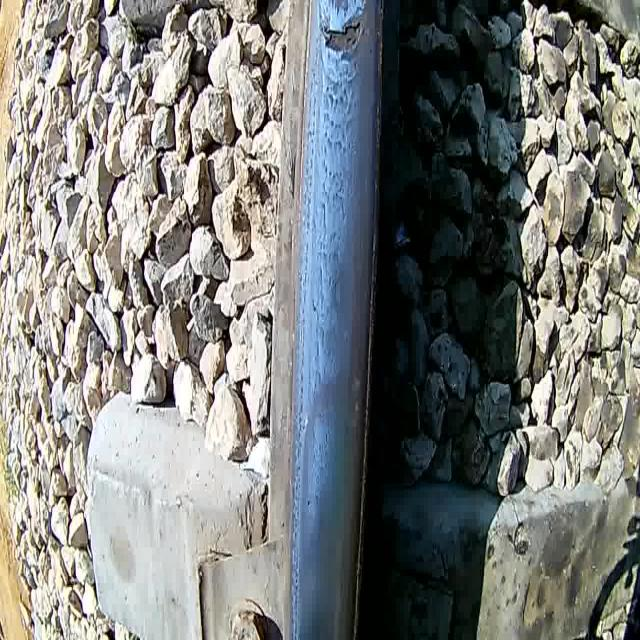Spallings: (317, 17, 366, 64)
Squats: (324, 250, 355, 369), (321, 0, 369, 19)
